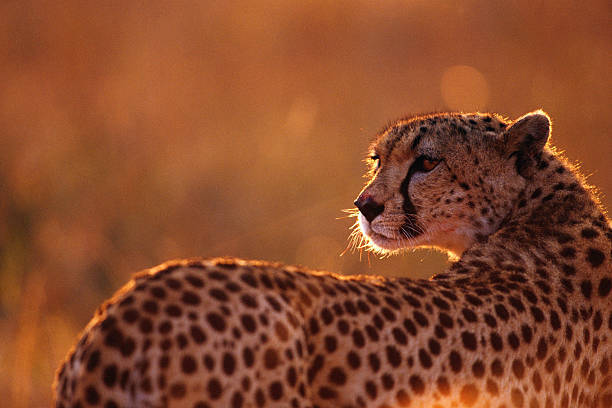cheetah: (339, 98, 560, 278)
